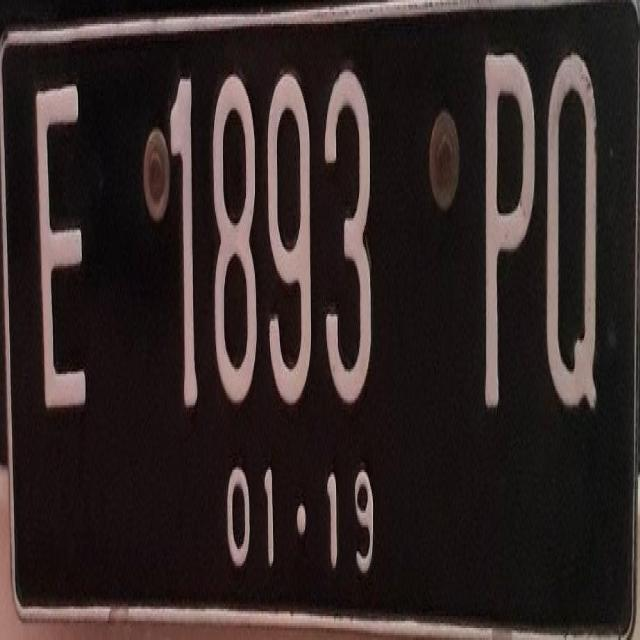plate: (1, 19, 633, 638)
